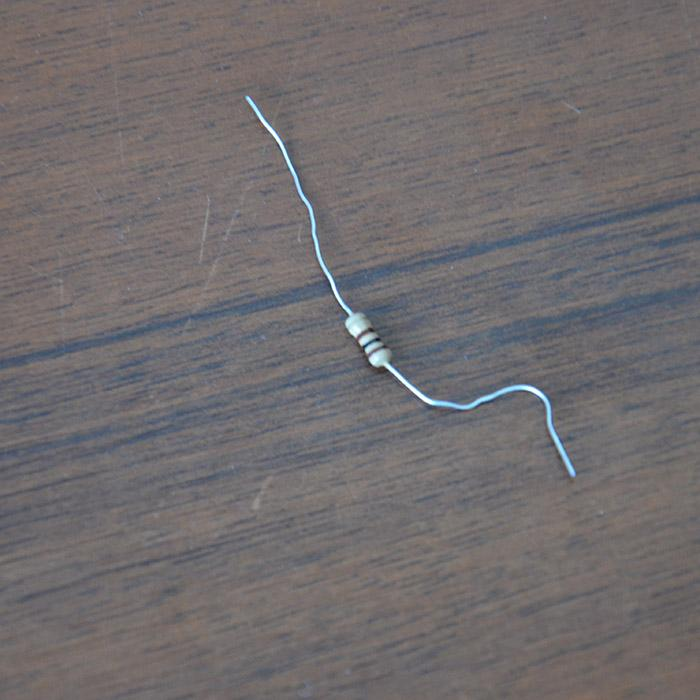resistor: (343, 310, 391, 368)
